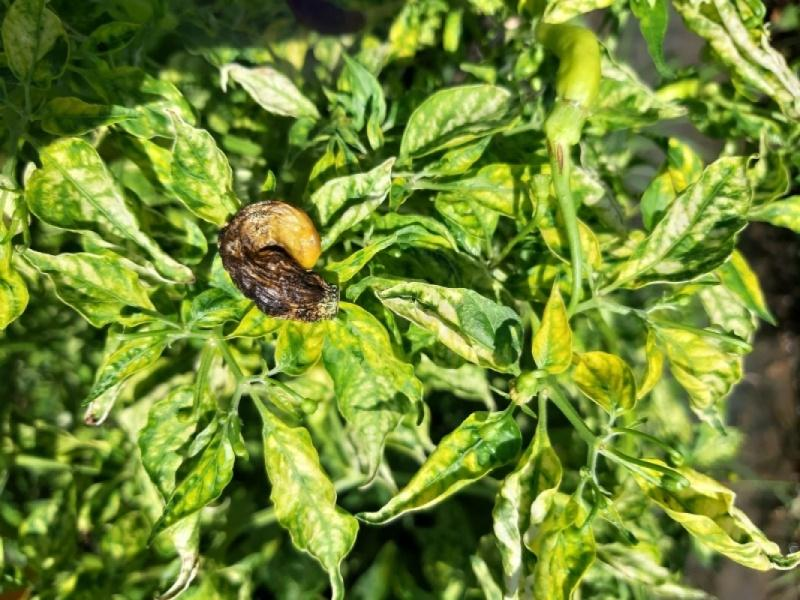antraknosa: (215, 198, 346, 324)
cabai_normal: (535, 19, 603, 110)
